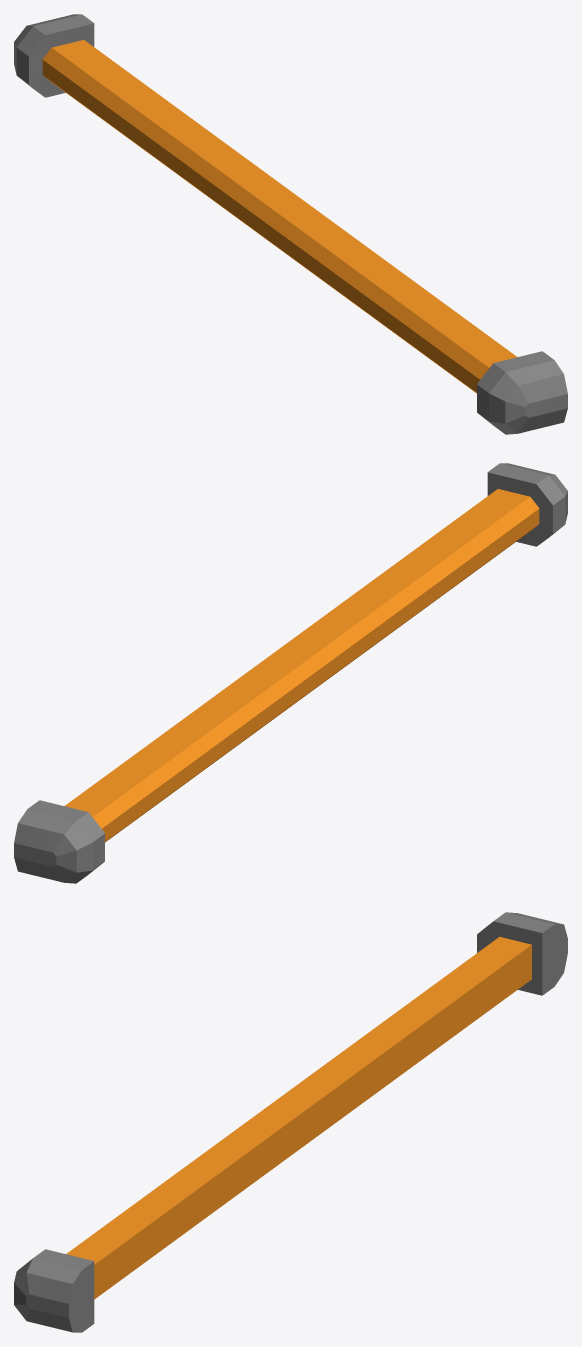
The model's file is B01_neon_XL.fbx.
3 renders of one model, top to bottom at view 1: azimuth 30°, elevation 25°; view 2: azimuth 150°, elevation 25°; view 3: azimuth 330°, elevation 25°, orthographic.
Visible parts, largest first — view 1: B01_neon; view 2: B01_neon; view 3: B01_neon.
Boxes of the visible parts, box(x1,y1,x2,y2) form: B01_neon: box(14, 14, 567, 434); B01_neon: box(14, 463, 567, 883); B01_neon: box(14, 912, 567, 1332).
Bounding box in the file's own units: 12.7 × 11.59 × 168.
